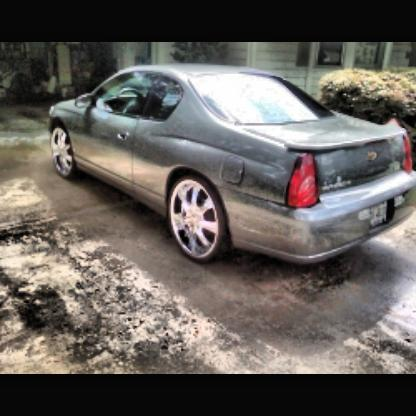Chevrolet Monte Carlo Coupe 2007: (29, 70, 415, 274)
